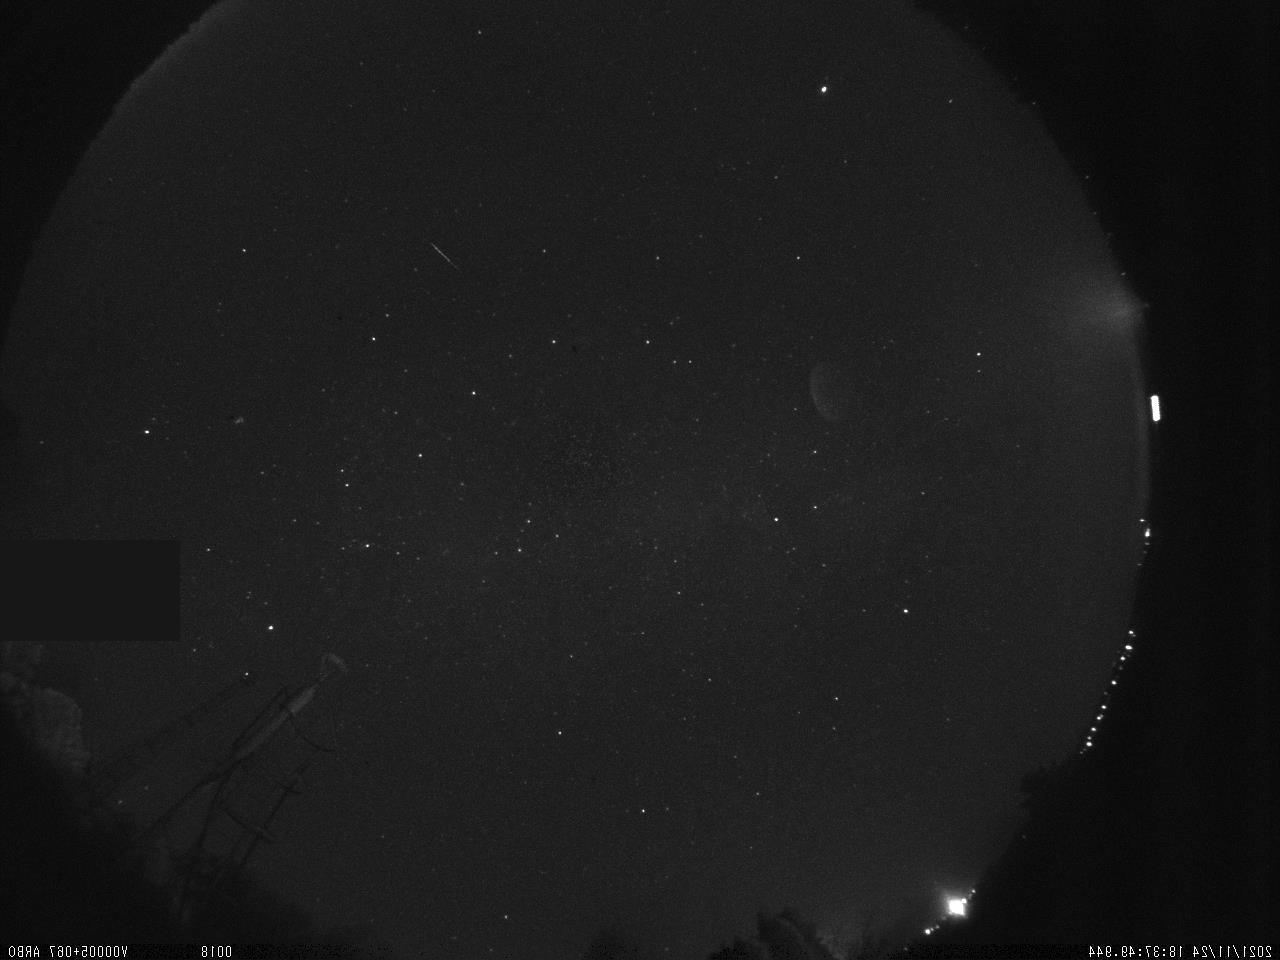meteor: (408, 222, 471, 289)
